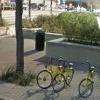Bicycle: (36, 50, 97, 100)
